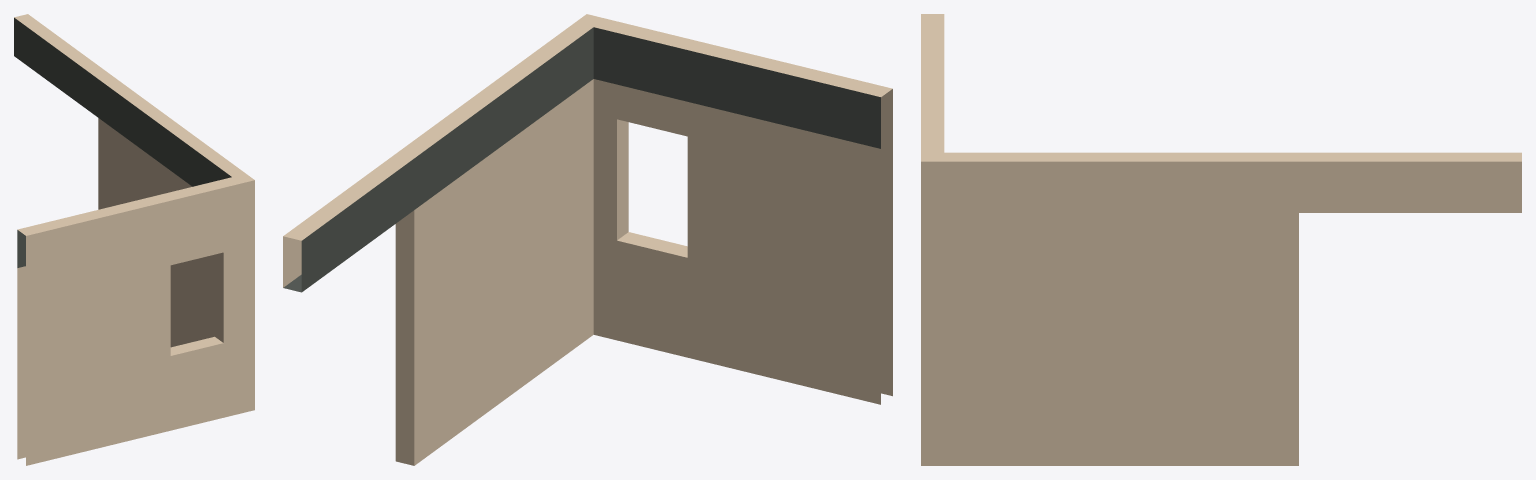
The picture shows the model from 3 angles, left to right: view 1: azimuth 30°, elevation 25°; view 2: azimuth 150°, elevation 25°; view 3: azimuth 270°, elevation 25°; orthographic projection. The views are drawn at different scales.
Visible parts, largest first — view 1: Temp; view 2: Temp; view 3: Temp.
Part boxes in pixels (x1,y1,x2,y2): Temp: [14, 14, 254, 465]; Temp: [283, 14, 892, 465]; Temp: [921, 14, 1521, 465].
Size of the model in its own units: 546 by 524 by 938.
